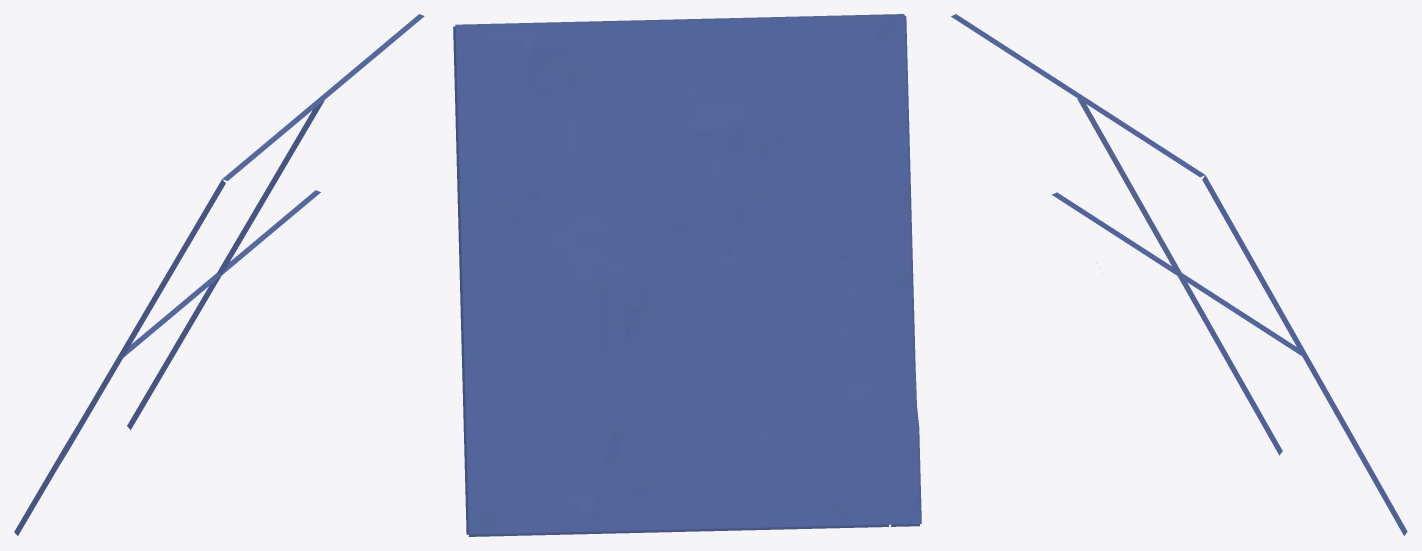
The picture shows the model from 3 angles, left to right: view 1: azimuth 30°, elevation 25°; view 2: azimuth 150°, elevation 25°; view 3: azimuth 270°, elevation 25°; orthographic projection. The views are drawn at different scales.
Size of the model in its own units: 39546 by 34996 by 34791.
1 material, 1 textured.
